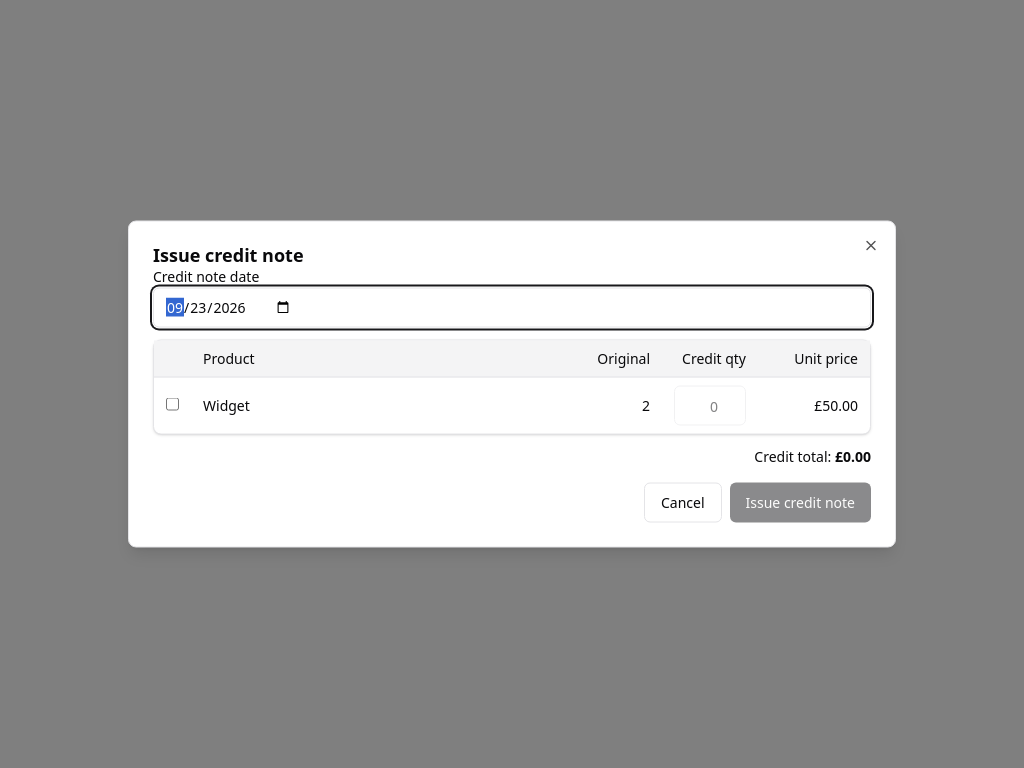
Test: CreditNoteDialog › blocks credit quantity greater than original qty
The width and height of the screenshot is (1024, 768).
Step 1. Click the checkbox named "select line 1" → (172, 404), box [166,398,179,410]
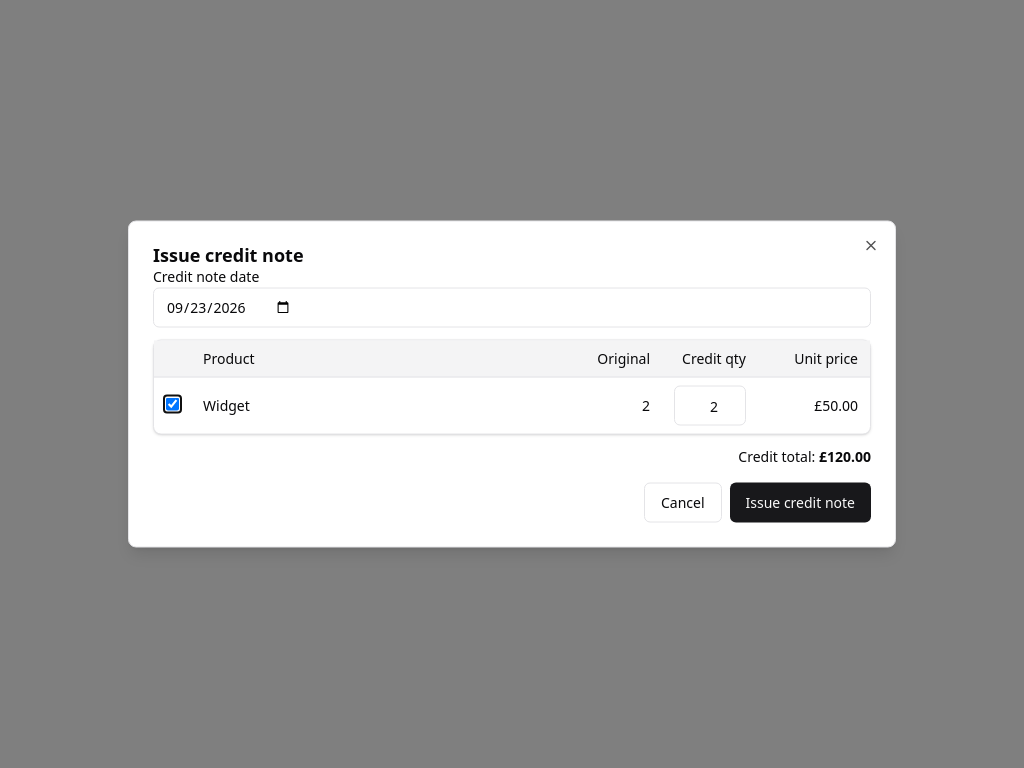
Step 2. Replace the text in the number field named "line 1 credit quantity" with "5" → (710, 406), box [674,386,746,426]
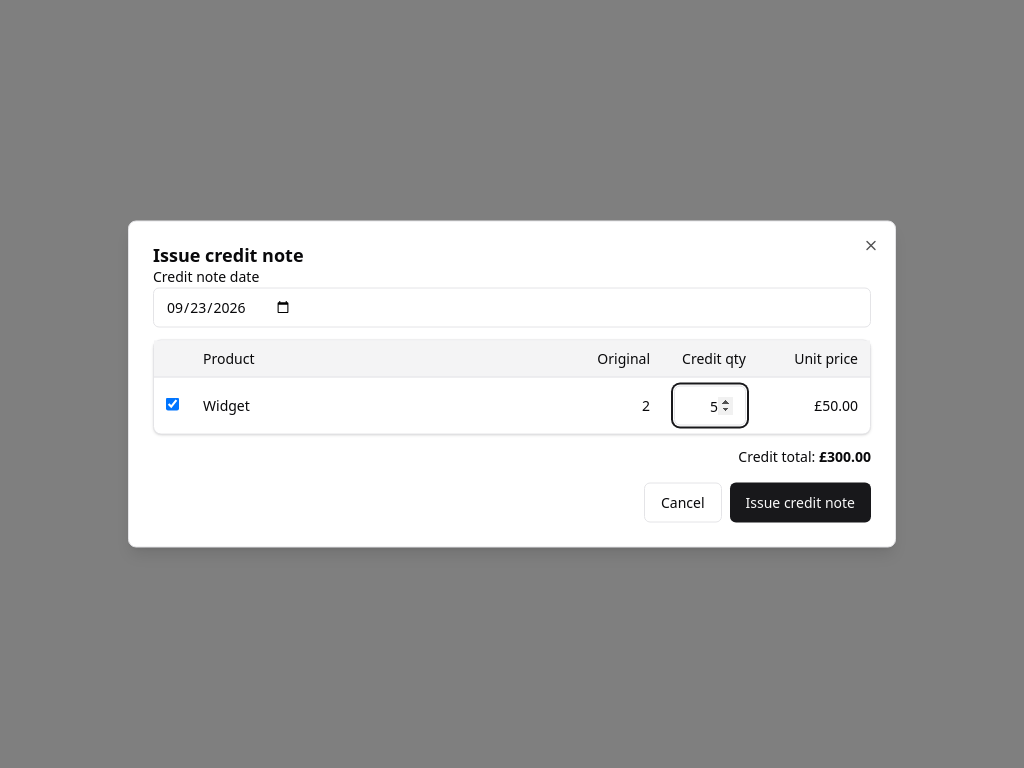
Step 3. Click the button "Issue credit note" → (800, 502), box [730,482,871,522]
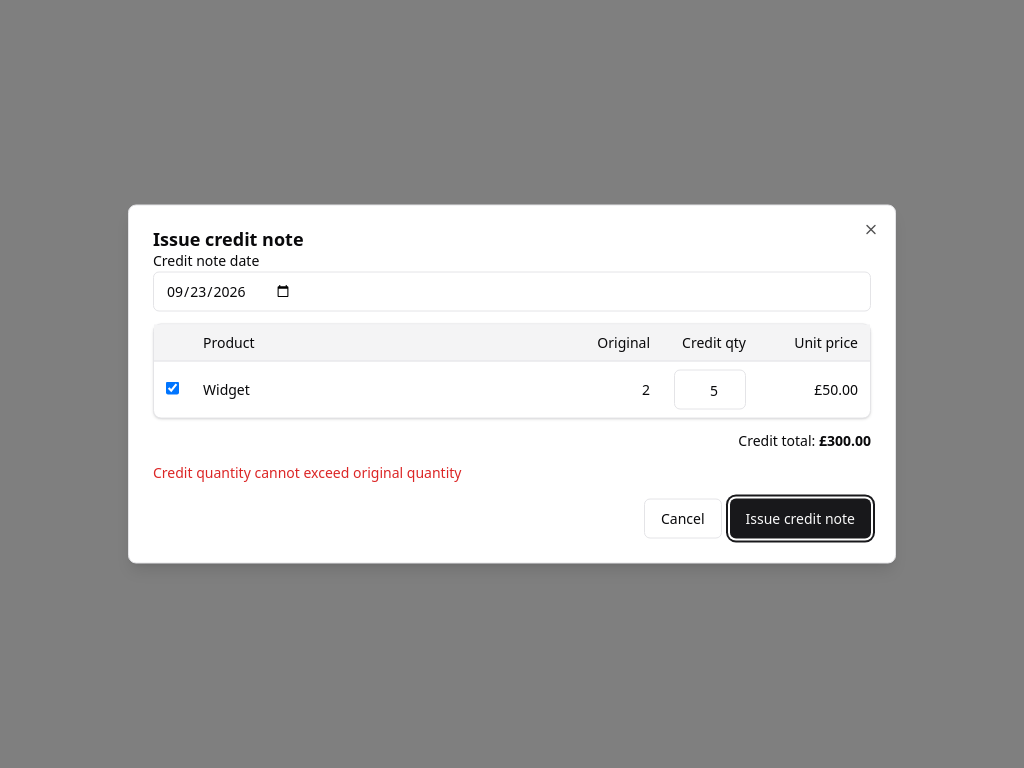
Expected: the message shows "cannot exceed", [153,462,462,482]
